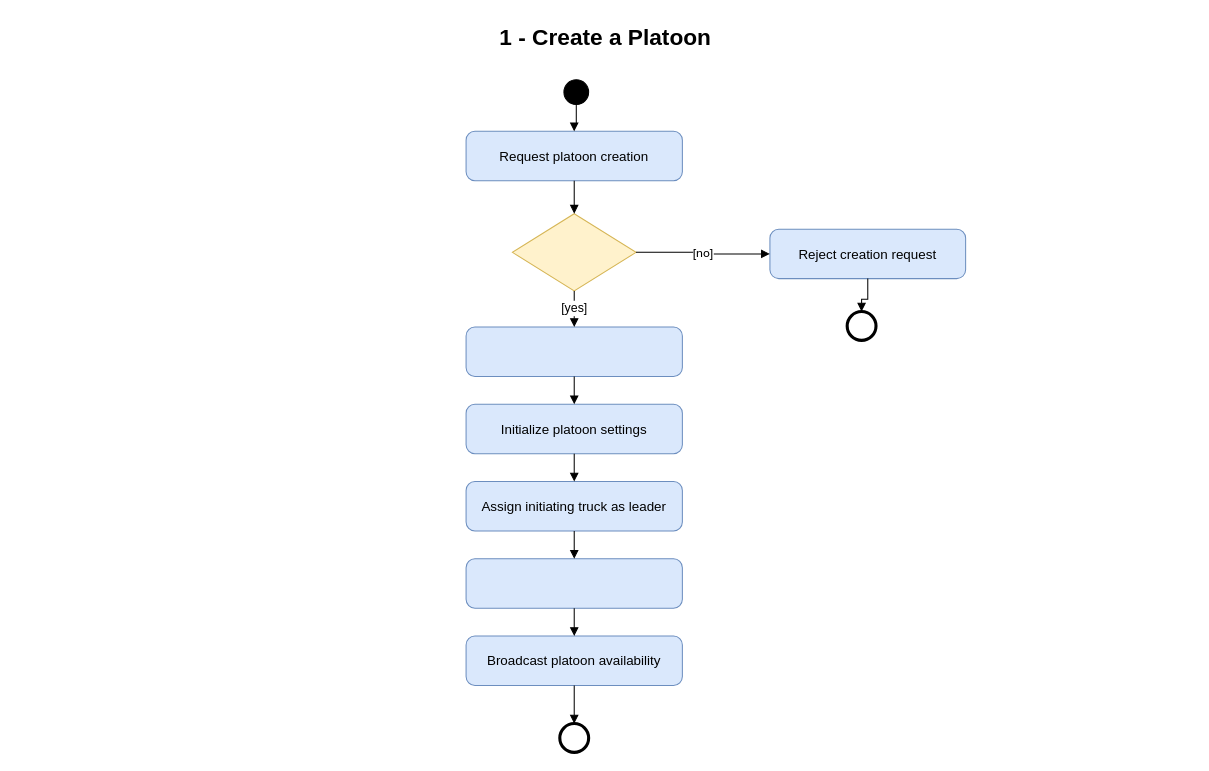
This 1209x771 diagram has some shape labels left out. Here are the shapes that lost their labels. From the top down, the box of each, then its label:
(511, 213, 636, 291): Truck eligible to lead?
(465, 326, 682, 376): Generate unique platoon ID
(465, 558, 682, 608): Register platoon
